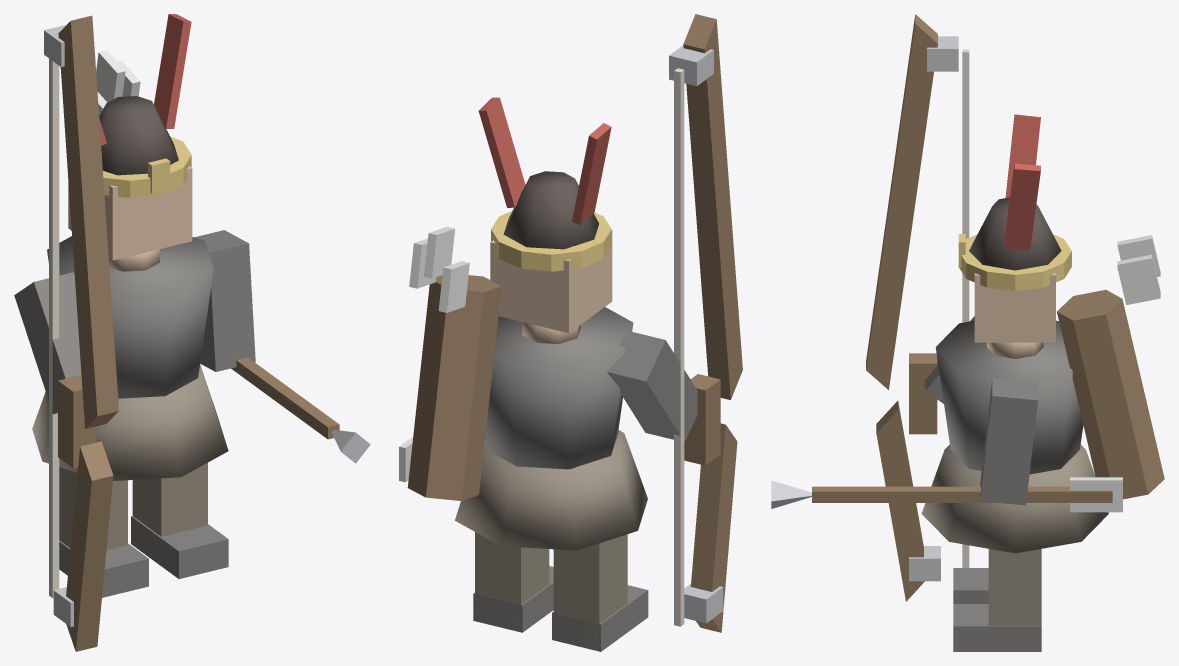
File: troop-hwarang-archer.glb
The picture shows the model from 3 angles, left to right: view 1: azimuth 30°, elevation 25°; view 2: azimuth 150°, elevation 25°; view 3: azimuth 270°, elevation 25°; orthographic projection. The views are drawn at different scales.
Parts seen in each view (by area): view 1: bow_limb_u, body, skirt, bow_limb_d, arm_r, head, bow_string, arm_l, cap, leg_r, foot_r, cap_feather_r (+11 smaller); view 2: quiver, body, skirt, bow_limb_u, head, arm_l, leg_l, bow_string, bow_limb_d, cap, leg_r, cap_band (+8 smaller); view 3: quiver, body, bow_limb_u, skirt, arm_r, head, arrow, bow_limb_d, leg_r, cap, foot_r, cap_band (+10 smaller).
Part boxes in pixels (box(x1,y1,x2,y2)): bow_limb_u: box(58, 15, 118, 428); body: box(47, 236, 213, 398); skirt: box(32, 364, 228, 480); bow_limb_d: box(66, 441, 113, 651); arm_r: box(195, 230, 255, 371); head: box(68, 166, 192, 260); bow_string: box(49, 58, 59, 598); arm_l: box(14, 272, 81, 414); cap: box(99, 96, 178, 175); leg_r: box(132, 462, 207, 536); foot_r: box(131, 516, 228, 578); cap_feather_r: box(154, 14, 191, 128); quiver: box(407, 226, 501, 500); body: box(484, 307, 633, 469); skirt: box(455, 430, 647, 550); bow_limb_u: box(683, 14, 742, 400); head: box(490, 230, 612, 333); arm_l: box(607, 330, 697, 442); leg_l: box(553, 534, 627, 650); bow_string: box(674, 68, 684, 626); bow_limb_d: box(691, 423, 737, 632); cap: box(503, 171, 598, 249); leg_r: box(475, 532, 549, 631); cap_band: box(491, 211, 611, 271); quiver: box(1057, 235, 1164, 499); body: box(935, 320, 1083, 474); bow_limb_u: box(866, 14, 937, 389); skirt: box(921, 444, 1108, 553); arm_r: box(980, 378, 1037, 505); head: box(974, 273, 1055, 342); arrow: box(812, 486, 1112, 502); bow_limb_d: box(876, 400, 924, 601); leg_r: box(988, 549, 1041, 625); cap: box(969, 197, 1061, 270); foot_r: box(953, 604, 1041, 651); cap_band: box(959, 234, 1071, 290).
Size of the model in its own units: 0.1355 by 0.3609 by 0.2225.
